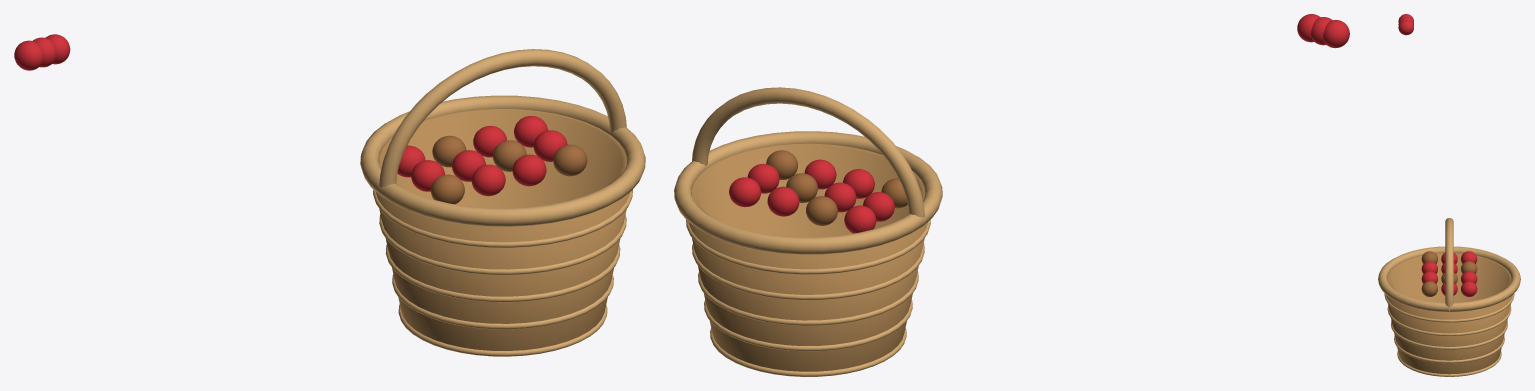
File: plukker_plukken_gereedschap.glb
The picture shows the model from 3 angles, left to right: view 1: azimuth 30°, elevation 25°; view 2: azimuth 150°, elevation 25°; view 3: azimuth 270°, elevation 25°; orthographic projection. The views are drawn at different scales.
Visible parts, largest first — view 1: Basket_woven_body.001, Basket_rim.001, Basket_handle.001, Basket_weave.010, Basket_weave.009, Basket_weave.008, Basket_weave.007, Basket_weave.006, Basket_berries.001, Basket_berries.002, Basket_berries.003, Basket_berries (+9 smaller); view 2: Basket_woven_body.001, Basket_rim.001, Basket_handle.001, Basket_weave.010, Basket_weave.009, Basket_weave.008, Basket_weave.007, Basket_weave.006, Basket_berries.010, Basket_berries.009, Basket_berries.011, Basket_berries.008 (+8 smaller); view 3: Basket_woven_body.001, Basket_rim.001, Basket_handle.001, Basket_weave.010, Basket_weave.009, Basket_weave.008, Basket_weave.007, Basket_weave.006, Basket_berries.003, Basket_berries.011, Picked_berries.002, Basket_berries.001 (+5 smaller).
Boxes of the visible parts, x1,y1,x2,y2 form: Basket_woven_body.001: (376,109,630,350); Basket_rim.001: (360,95,645,226); Basket_handle.001: (379,49,626,187); Basket_weave.010: (373,190,632,247); Basket_weave.009: (379,214,626,274); Basket_weave.008: (385,244,620,302); Basket_weave.007: (392,274,613,329); Basket_weave.006: (398,304,607,356); Basket_berries.001: (471,164,505,196); Basket_berries.002: (512,154,546,186); Basket_berries.003: (553,144,587,176); Basket_berries: (430,174,464,204); Basket_woven_body.001: (688,143,927,371); Basket_rim.001: (674,131,942,254); Basket_handle.001: (692,87,924,218); Basket_weave.010: (686,220,930,274); Basket_weave.009: (692,243,924,300); Basket_weave.008: (698,271,918,325); Basket_weave.007: (704,300,912,351); Basket_weave.006: (710,328,906,376); Basket_berries.010: (767,186,799,216); Basket_berries.009: (806,196,837,225); Basket_berries.011: (729,177,760,207); Basket_berries.008: (844,205,876,233); Basket_woven_body.001: (1386,253,1512,374); Basket_rim.001: (1378,246,1520,311); Basket_handle.001: (1445,218,1453,308); Basket_weave.010: (1384,293,1514,322); Basket_weave.009: (1387,306,1511,336); Basket_weave.008: (1391,321,1507,349); Basket_weave.007: (1394,336,1504,363); Basket_weave.006: (1397,351,1501,376); Basket_berries.003: (1421,281,1437,296); Basket_berries.011: (1461,281,1477,296); Picked_berries.002: (1398,20,1413,35); Basket_berries.001: (1421,261,1437,273).
Size of the model in its own units: 0.961 by 0.6028 by 0.364.
